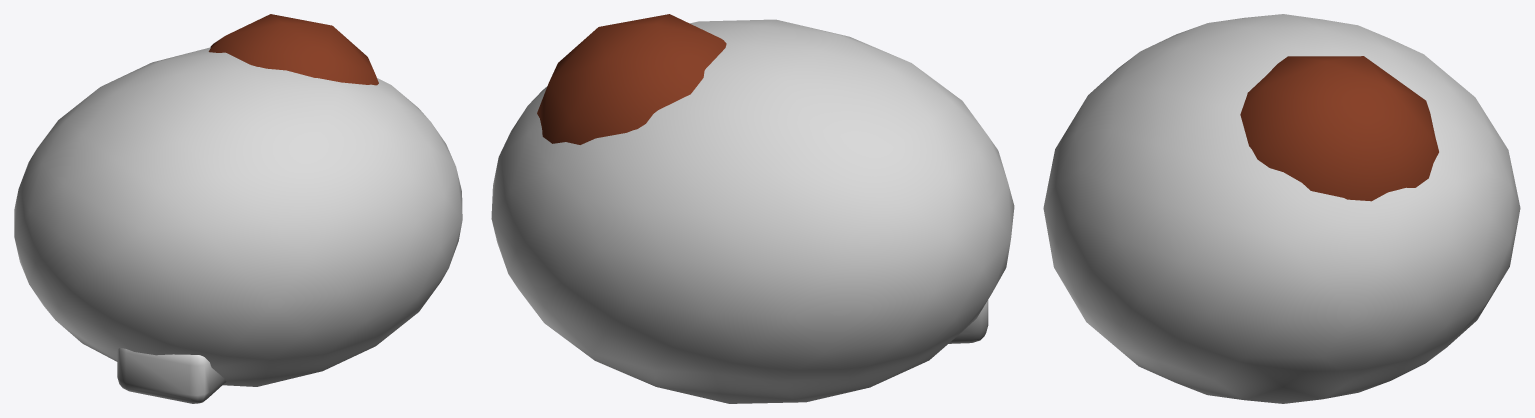
File: iron-ore-chunk.obj
3 views of the same model, side by side, from view 1: azimuth 30°, elevation 25°; view 2: azimuth 150°, elevation 25°; view 3: azimuth 270°, elevation 25° (orthographic). The views are drawn at different scales.
Visible parts, largest first — view 1: iron-ore-chunk; view 2: iron-ore-chunk; view 3: iron-ore-chunk.
Part boxes in pixels (<box>): iron-ore-chunk: <box>14,14,462,403</box>; iron-ore-chunk: <box>491,14,1014,403</box>; iron-ore-chunk: <box>1043,14,1520,403</box>.
Size of the model in its own units: 0.3711 by 0.2694 by 0.3362.
